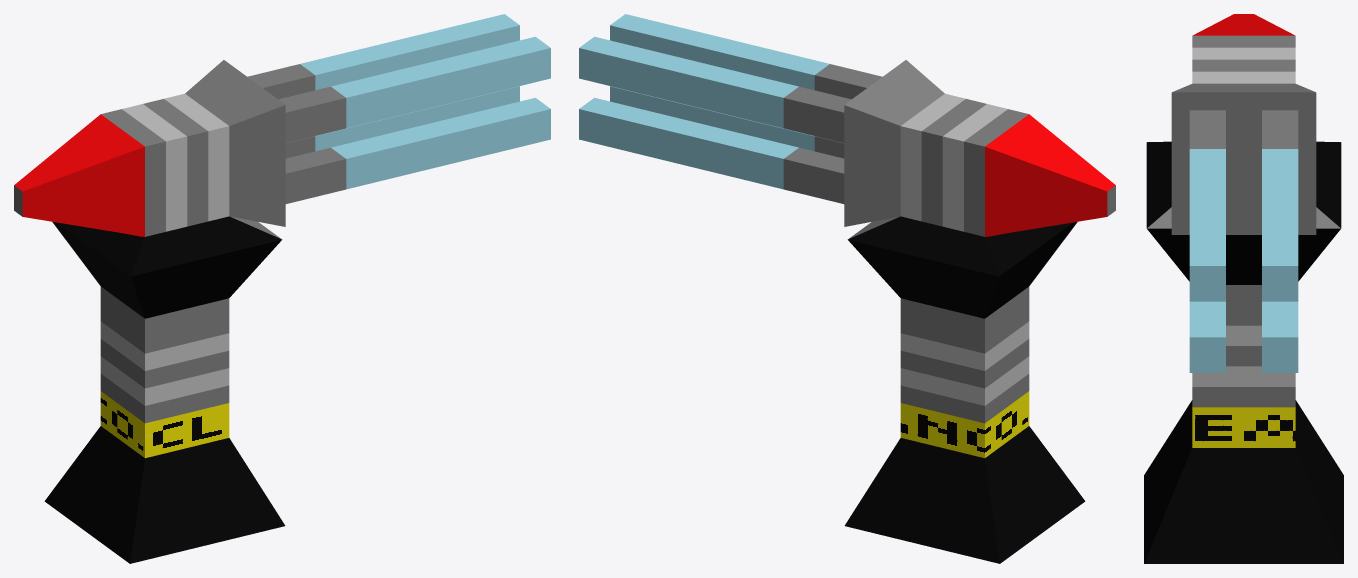
The model's file is Cleanergun.fbx.
The picture shows the model from 3 angles, left to right: view 1: azimuth 30°, elevation 25°; view 2: azimuth 150°, elevation 25°; view 3: azimuth 270°, elevation 25°; orthographic projection. The views are drawn at different scales.
Visible parts, largest first — view 1: Cube; view 2: Cube; view 3: Cube.
Part boxes in pixels (left/top/right/bottom): Cube: left=14, top=14, right=550, bottom=563; Cube: left=579, top=14, right=1115, bottom=563; Cube: left=1144, top=14, right=1343, bottom=563.
Bounding box in the file's own units: 224 × 172 × 65.14.
1 material, 1 textured.
